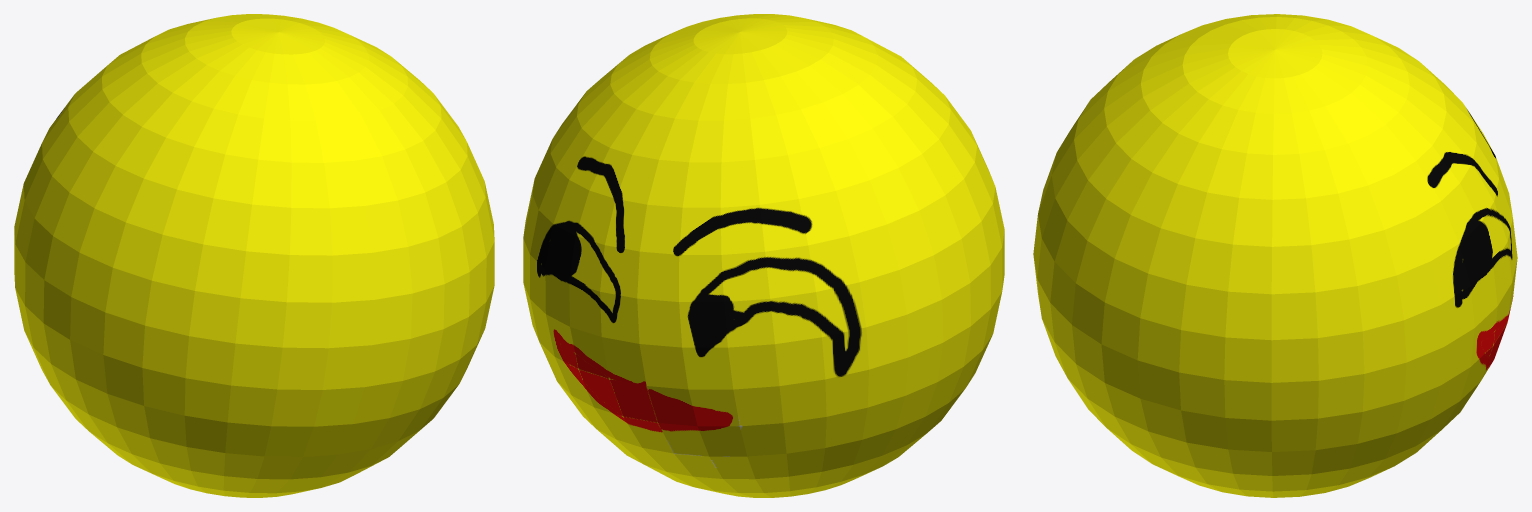
Rendered from idiotFace.obj.
The picture shows the model from 3 angles, left to right: view 1: azimuth 30°, elevation 25°; view 2: azimuth 150°, elevation 25°; view 3: azimuth 270°, elevation 25°; orthographic projection.
Visible parts, largest first — view 1: 球; view 2: 球; view 3: 球.
Boxes of the visible parts, <box> form: 球: <box>14,14,494,497</box>; 球: <box>523,14,1004,497</box>; 球: <box>1033,14,1517,497</box>.
Size of the model in its own units: 0.9966 by 0.9967 by 0.9999.
Materials: 1 (1 with a texture image).
